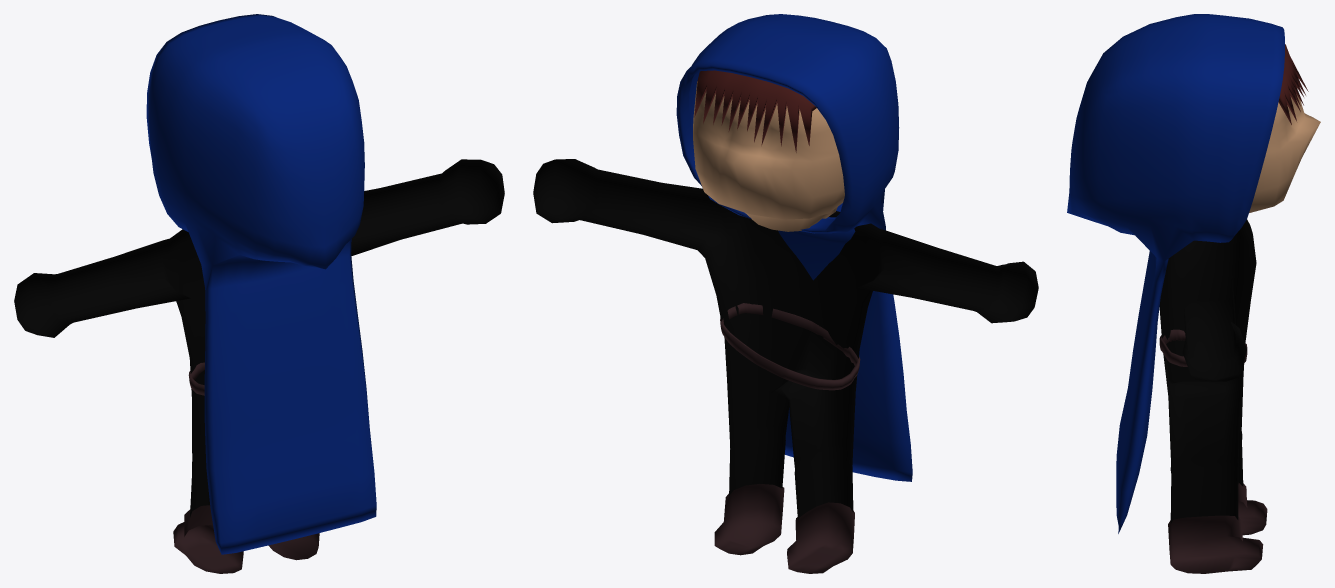
Rendered from Fullcharicter.fbx.
3 views of the same model, side by side, from view 1: azimuth 30°, elevation 25°; view 2: azimuth 150°, elevation 25°; view 3: azimuth 270°, elevation 25° (orthographic).
Parts seen in each view (by area): view 1: Cube.004, Cube.003, Cube.002; view 2: Cube.003, Cube.004, Cube.000, Cube.002, Cube.006, Cube; view 3: Cube.004, Cube.003, Cube.002, Cube.000, Cube.006, Cube.
Part boxes in pixels (x1,y1,x2,y2): Cube.004: (146, 14, 376, 554); Cube.003: (14, 159, 504, 517); Cube.002: (173, 505, 319, 573); Cube.003: (533, 159, 1038, 520); Cube.004: (676, 14, 912, 481); Cube.000: (693, 81, 844, 231); Cube.002: (714, 484, 854, 573); Cube.006: (694, 70, 816, 152); Cube: (720, 303, 860, 390); Cube.004: (1067, 14, 1284, 533); Cube.003: (1159, 219, 1256, 523); Cube.002: (1168, 483, 1267, 573); Cube.000: (1249, 88, 1320, 212); Cube.006: (1278, 44, 1308, 124); Cube: (1159, 329, 1247, 366).
Bounding box in the file's own units: 536 × 540 × 242.
